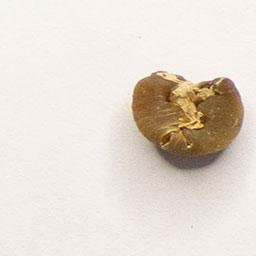defect: (128, 66, 247, 164)
